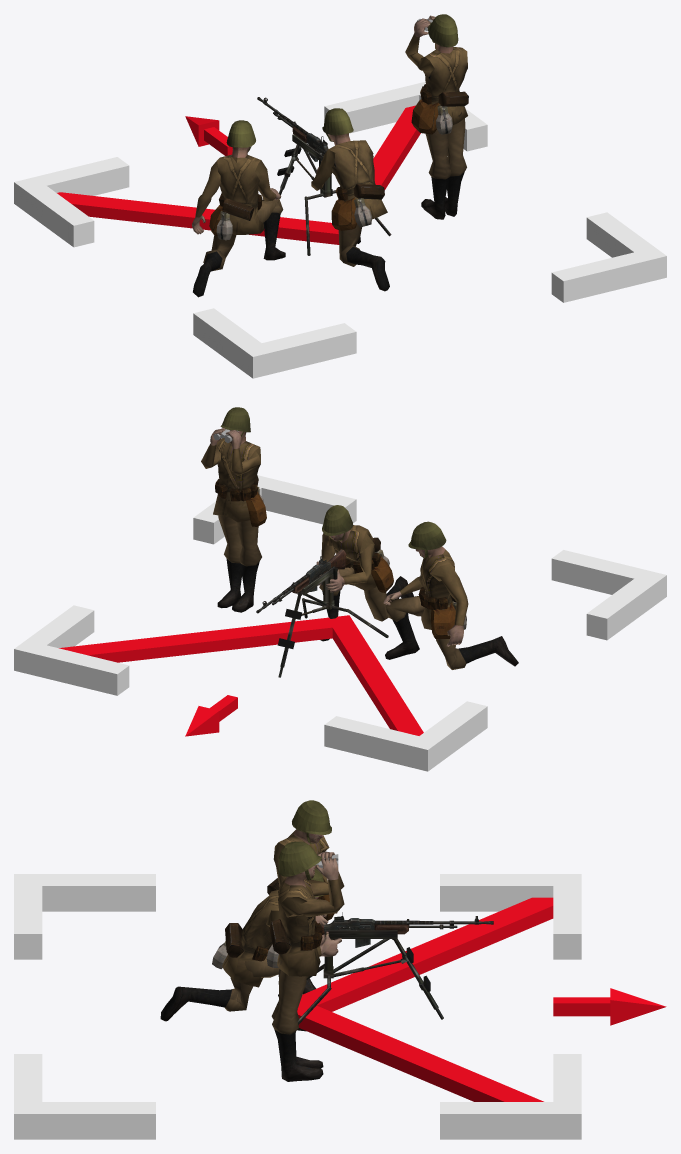
Rendered from cf_sov_hmg.obj.
3 views of the same model, one above another, from view 1: azimuth 30°, elevation 25°; view 2: azimuth 150°, elevation 25°; view 3: azimuth 270°, elevation 25° (orthographic). The views are drawn at different scales.
Parts seen in each view (by area): view 1: i_frame_Cube.007, cat_german_rigged3_cat_polySurface3, cat_Mesh.001, german_rigged, los_Cube.003, arrow_Cube; view 2: i_frame_Cube.007, los_Cube.003, cat_Mesh.001, cat_german_rigged3_cat_polySurface3, german_rigged, arrow_Cube; view 3: i_frame_Cube.007, los_Cube.003, cat_german_rigged3_cat_polySurface3, cat_Mesh.001, german_rigged, arrow_Cube.
Part boxes in pixels (x1,y1,x2,y2): i_frame_Cube.007: (14, 81, 666, 378); cat_german_rigged3_cat_polySurface3: (257, 97, 391, 291); cat_Mesh.001: (405, 14, 468, 219); german_rigged: (192, 120, 285, 297); los_Cube.003: (57, 105, 420, 244); arrow_Cube: (185, 116, 232, 155); i_frame_Cube.007: (14, 475, 666, 771); los_Cube.003: (59, 615, 423, 735); cat_Mesh.001: (201, 407, 266, 612); cat_german_rigged3_cat_polySurface3: (256, 505, 413, 677); german_rigged: (383, 521, 518, 669); arrow_Cube: (185, 695, 237, 736); i_frame_Cube.007: (14, 874, 581, 1139); los_Cube.003: (297, 897, 553, 1101); cat_german_rigged3_cat_polySurface3: (160, 868, 493, 1031); cat_Mesh.001: (266, 841, 344, 1081); german_rigged: (267, 800, 337, 994); arrow_Cube: (553, 988, 666, 1025).
Bounding box in the file's own units: 4 × 1.91 × 4.6.
Materials: 3 (2 with a texture image).
